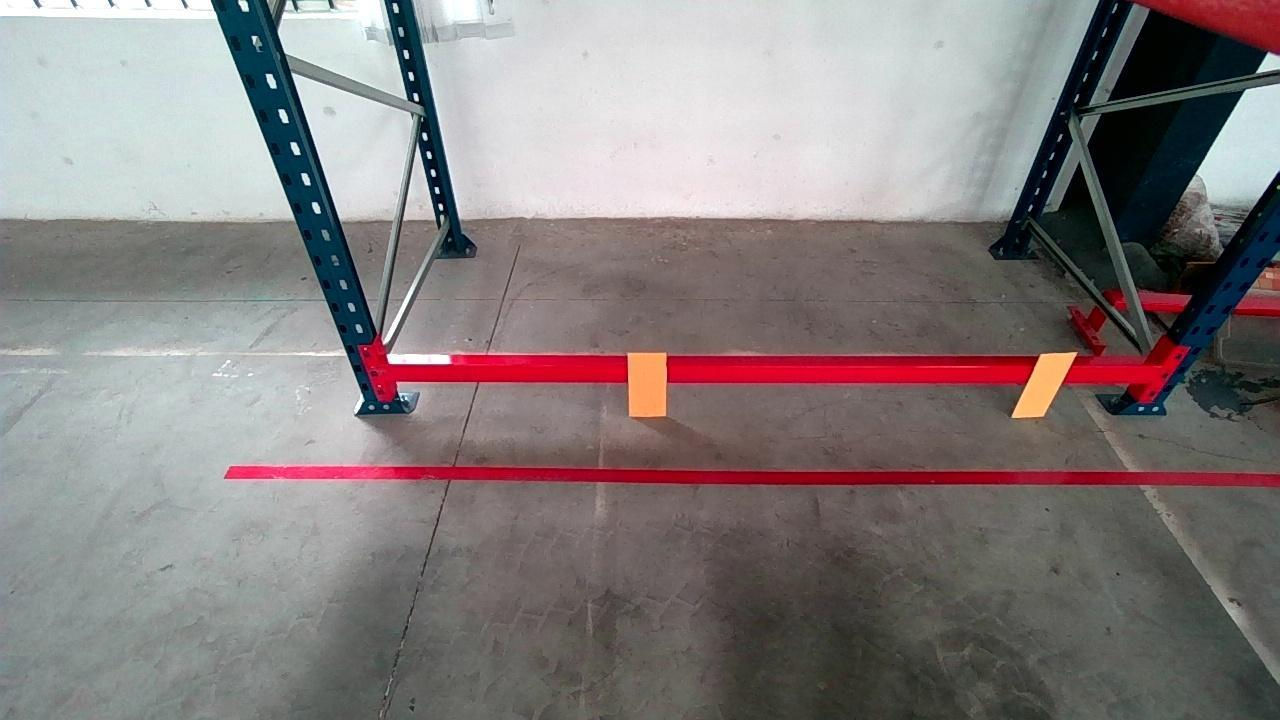h_rack: (392, 354, 1155, 387)
orange_strip: (1012, 352, 1080, 416), (628, 351, 667, 416)
red_line: (227, 465, 1280, 489)
